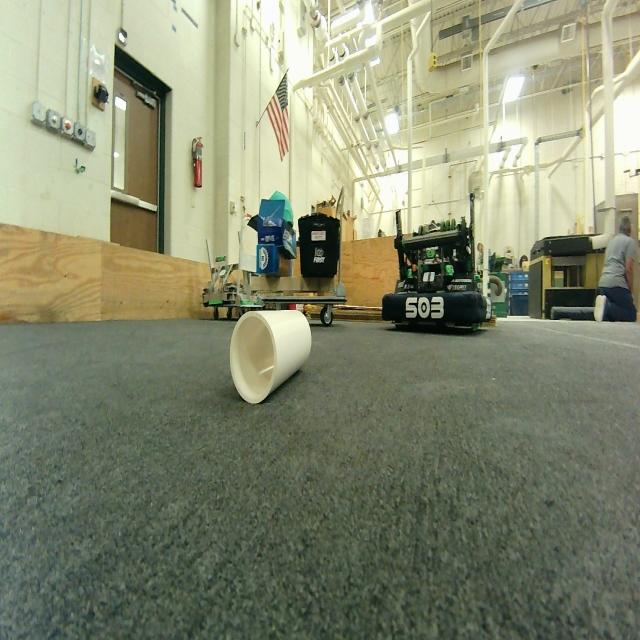coral: (222, 297, 324, 414)
